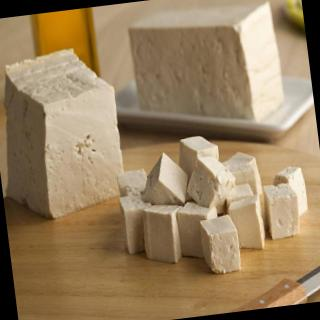Tahu: (106, 115, 320, 291), (119, 1, 299, 148), (1, 39, 133, 230)
